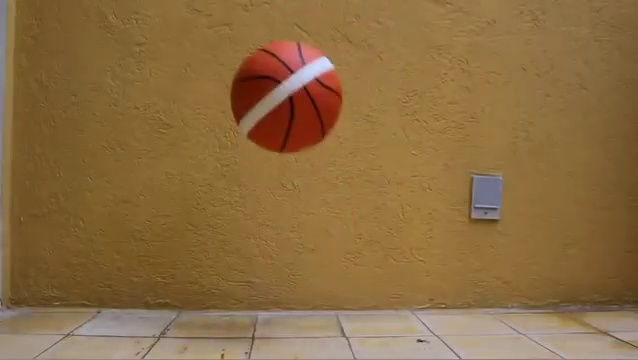ball: (230, 39, 343, 155)
